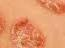plaque psoriasis: (4, 18, 56, 48), (27, 0, 65, 17), (0, 9, 7, 36)
